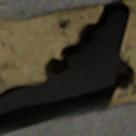brick: (2, 101, 135, 135), (0, 0, 118, 20)
crack: (0, 0, 135, 135)
